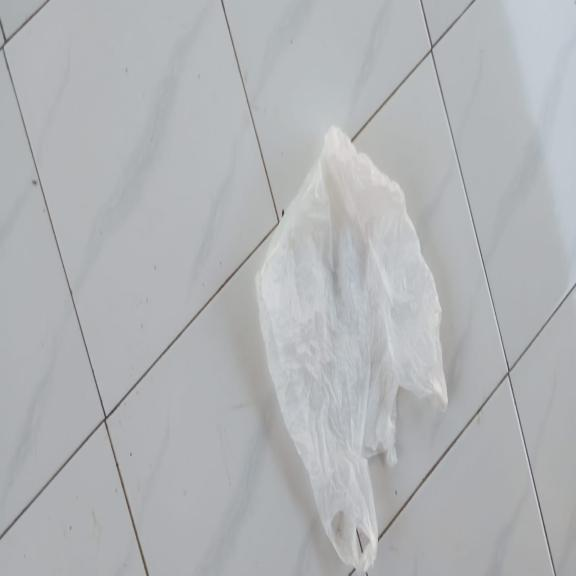Plastik: (255, 123, 448, 576)
